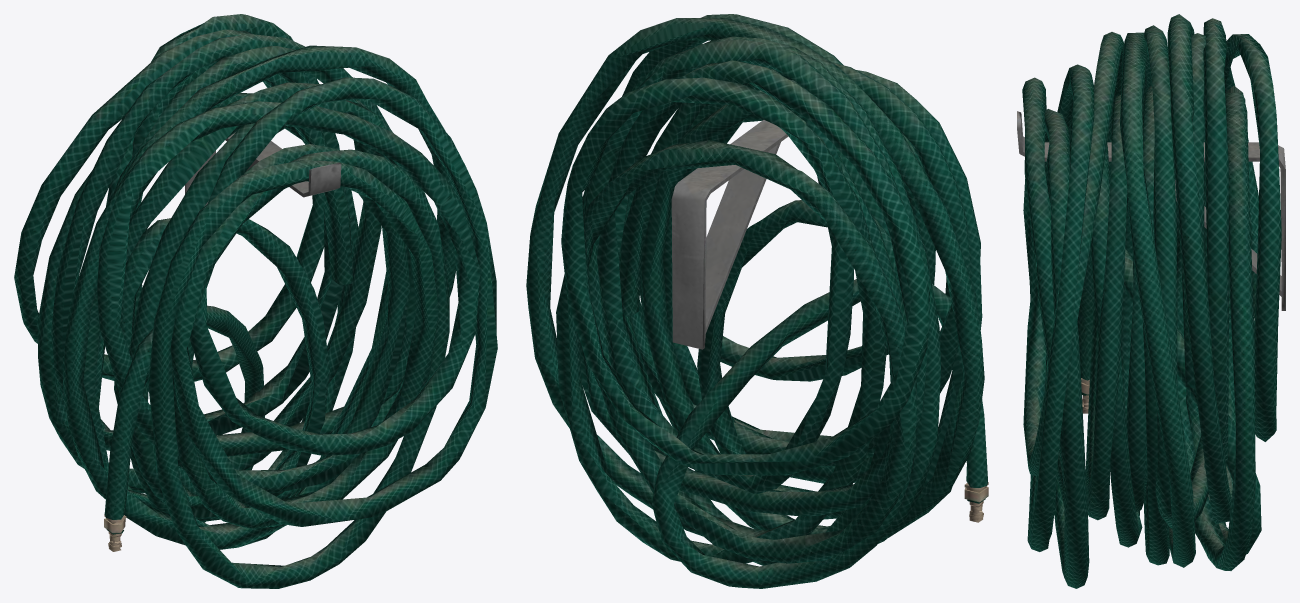
File: garden_hose_wall_mounted_01_1k.gltf
3 renders of one model, left to right at view 1: azimuth 30°, elevation 25°; view 2: azimuth 150°, elevation 25°; view 3: azimuth 270°, elevation 25°, orthographic. The views are drawn at different scales.
Visible parts, largest first — view 1: garden_hose, garden_hose_wall_bracket; view 2: garden_hose, garden_hose_wall_bracket; view 3: garden_hose, garden_hose_wall_bracket.
Part boxes in pixels (x1=…): garden_hose: x1=14, y1=14, x2=497, y2=588; garden_hose_wall_bracket: x1=185, y1=132, x2=341, y2=206; garden_hose: x1=526, y1=14, x2=988, y2=588; garden_hose_wall_bracket: x1=671, y1=120, x2=788, y2=349; garden_hose: x1=1022, y1=14, x2=1281, y2=588; garden_hose_wall_bracket: x1=1017, y1=111, x2=1285, y2=310.
Size of the model in its own units: 0.4621 by 0.557 by 0.2503.
1 material, 1 textured.
